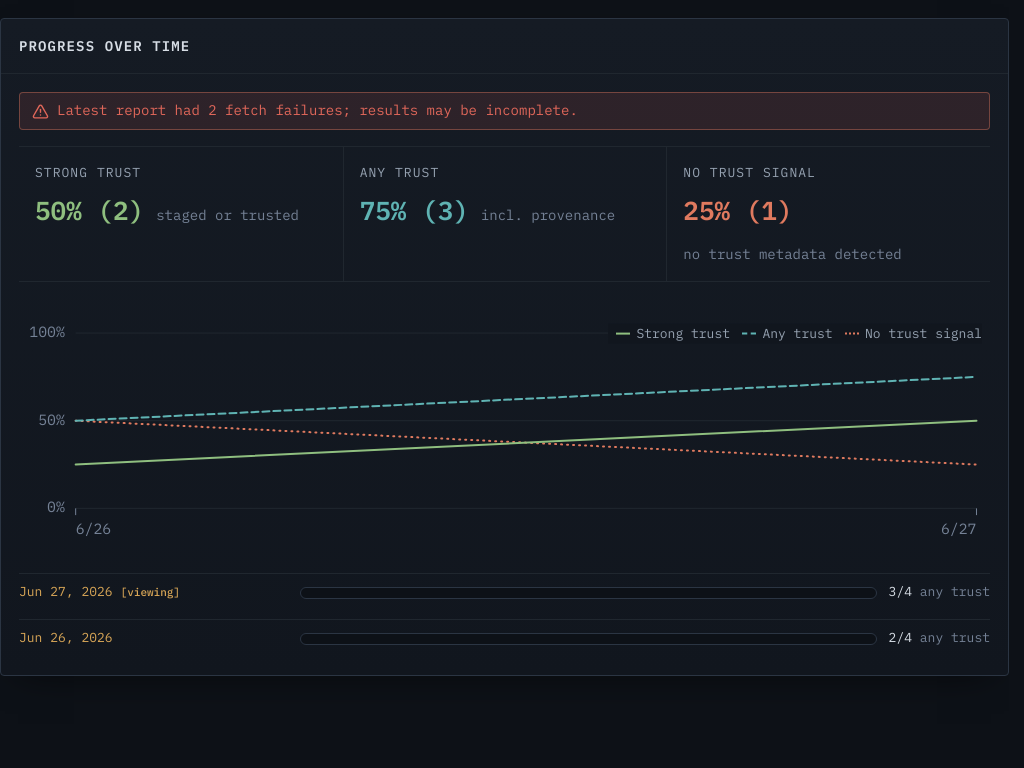
Test: HistoryPanel › renders aggregate trust history without payload data
The width and height of the screenshot is (1024, 768).
Expected: the text "50% (2)" is shown, [35,192,144,226]
Expected: the text "75% (3)" is shown, [360,192,469,226]
Hover over the button with class "history-segment--provenance" at [588, 593], box [300,587,876,599]
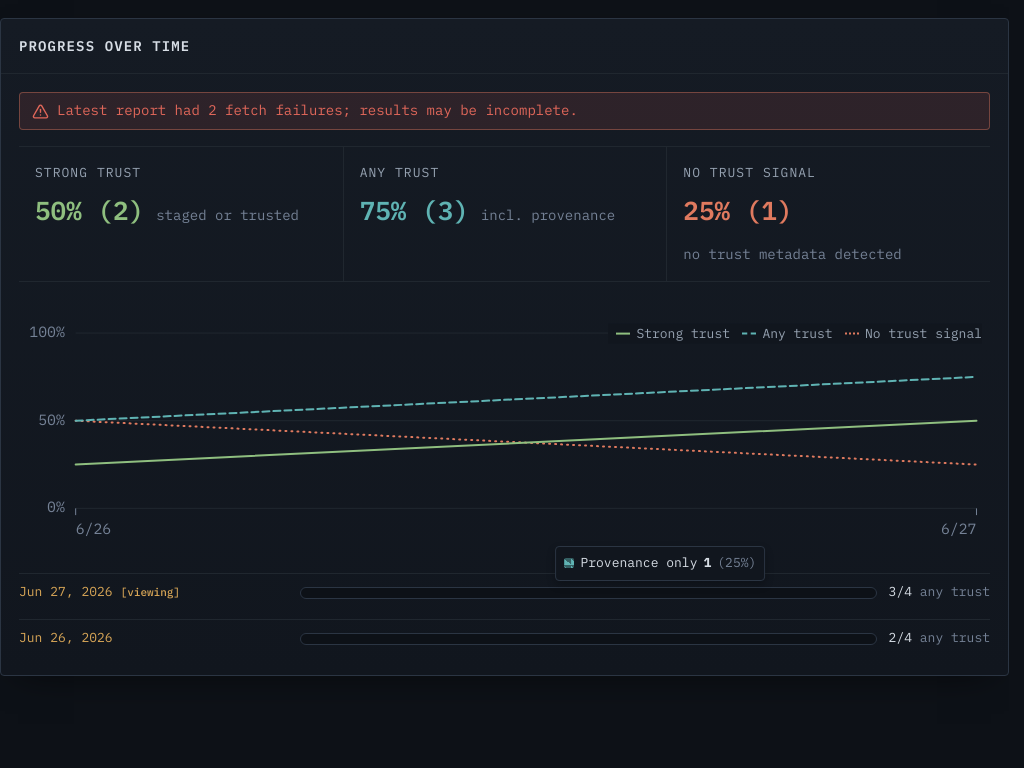
Expected: the tooltip reads "Provenance only 1 (25%)", [556,546,765,581]
